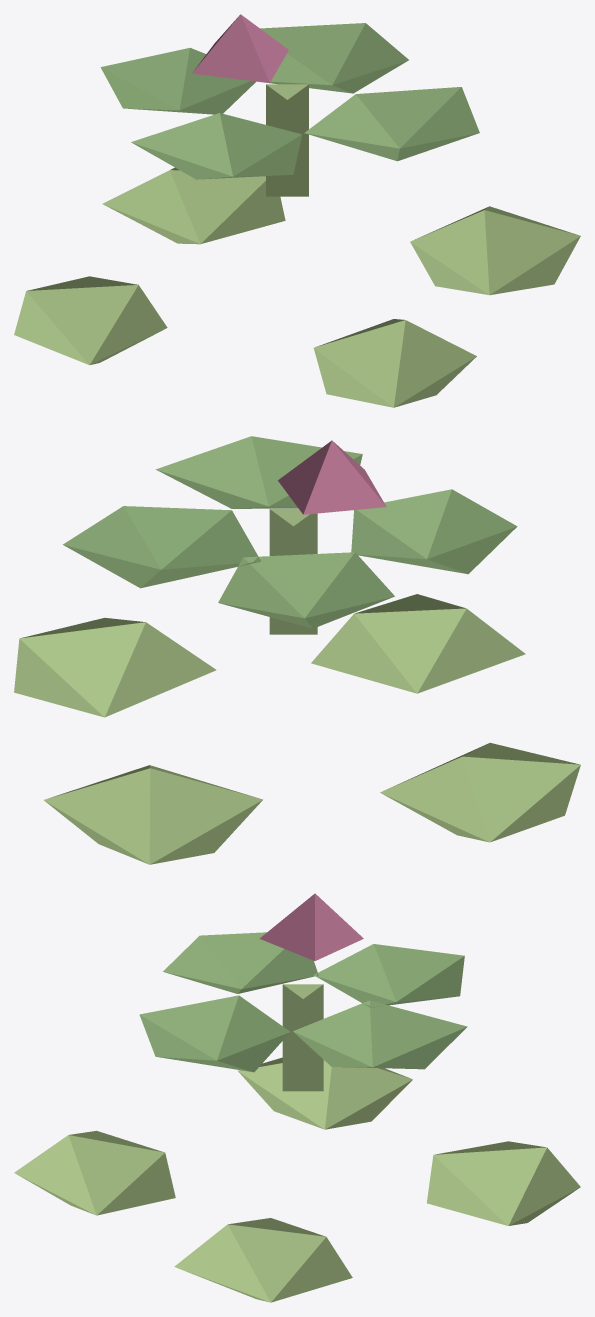
Rendered from shrub.cold.lichen__spring.glb.
3 renders of one model, top to bottom at view 1: azimuth 30°, elevation 25°; view 2: azimuth 150°, elevation 25°; view 3: azimuth 270°, elevation 25°, orthographic. The views are drawn at different scales.
Parts seen in each view (by area): view 1: shrub.cold.lichen__spring; view 2: shrub.cold.lichen__spring; view 3: shrub.cold.lichen__spring.
Boxes of the visible parts, x1,y1,x2,y2 form: shrub.cold.lichen__spring: (14, 14, 580, 407); shrub.cold.lichen__spring: (14, 436, 580, 864); shrub.cold.lichen__spring: (14, 893, 580, 1302).
Size of the model in its own units: 0.8845 by 0.5123 by 0.8651.
